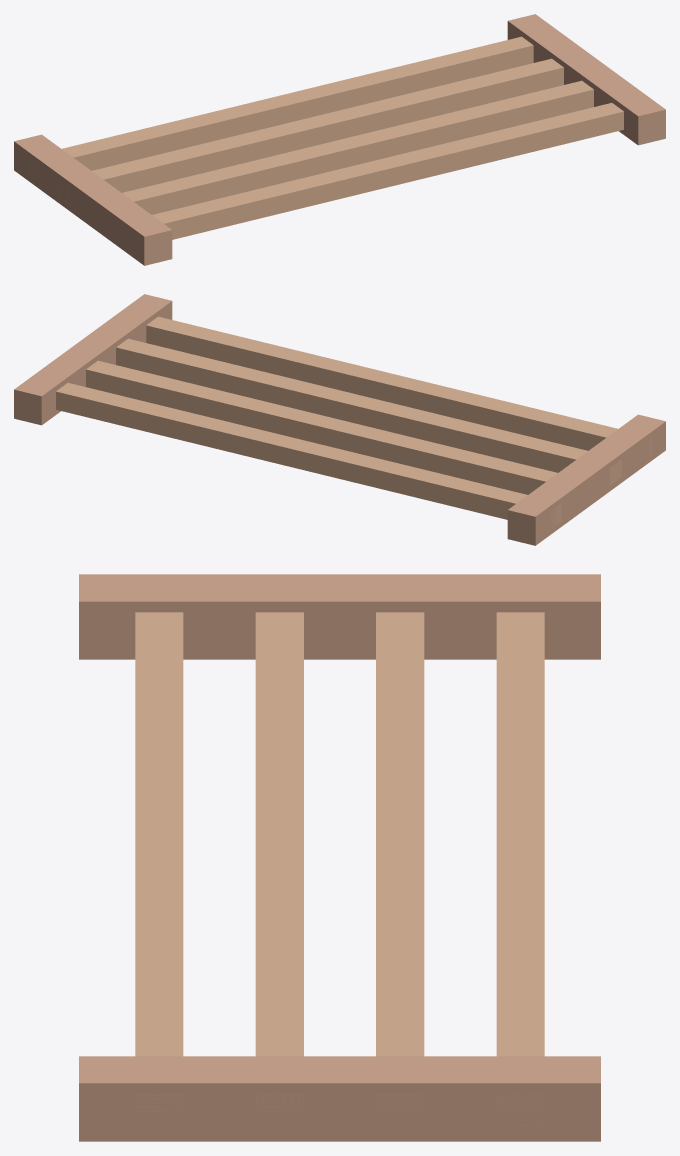
Rendered from prop-fence.glb.
The picture shows the model from 3 angles, top to bottom: view 1: azimuth 30°, elevation 25°; view 2: azimuth 150°, elevation 25°; view 3: azimuth 270°, elevation 25°; orthographic projection. The views are drawn at different scales.
Visible parts, largest first — view 1: FenceRail0, FenceRail2, FenceRail3, FenceRail1, FencePost, FencePost.001; view 2: FenceRail3, FenceRail1, FenceRail0, FenceRail2, FencePost, FencePost.001; view 3: FencePost.001, FencePost, FenceRail1, FenceRail3, FenceRail2, FenceRail0.
Part boxes in pixels (box(x1,y1,x2,y2)): FenceRail0: box(118, 103, 623, 246); FenceRail2: box(58, 58, 563, 205); FenceRail3: box(28, 36, 533, 183); FenceRail1: box(89, 80, 593, 227); FencePost: box(14, 134, 172, 265); FencePost.001: box(507, 14, 665, 145); FenceRail3: box(56, 383, 561, 527); FenceRail1: box(116, 338, 621, 485); FenceRail0: box(146, 316, 651, 456); FenceRail2: box(86, 360, 557, 494); FencePost: box(507, 414, 665, 545); FencePost.001: box(14, 294, 172, 425); FencePost.001: box(79, 1056, 600, 1141); FencePost: box(79, 574, 600, 659); FenceRail1: box(255, 612, 303, 1129); FenceRail3: box(496, 612, 544, 1128); FenceRail2: box(376, 612, 424, 1129); FenceRail0: box(135, 612, 183, 1129).
Size of the model in its own units: 150 by 8 by 65.
